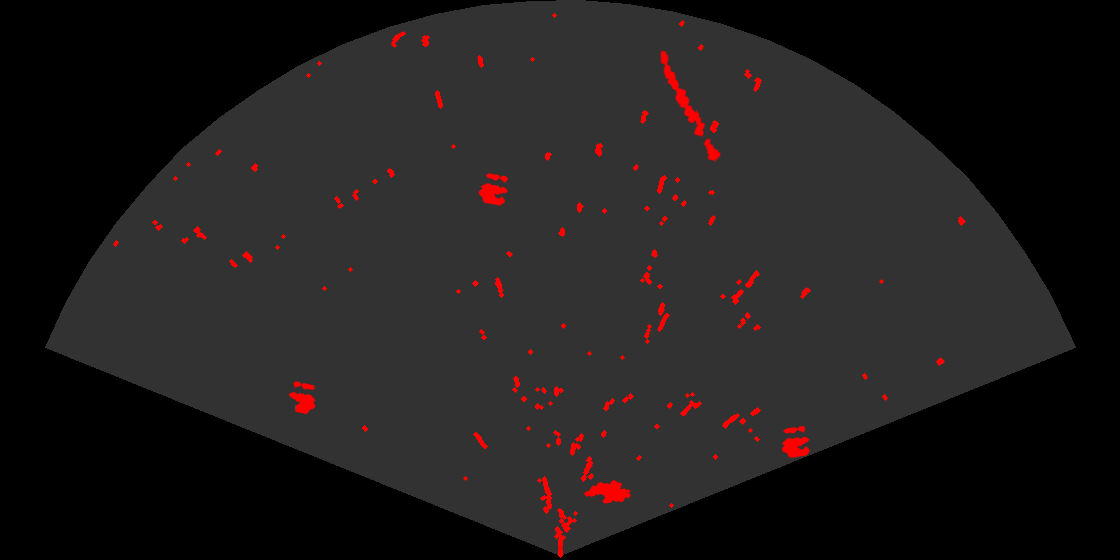AUV: (582, 478, 633, 505)
ball: (477, 172, 510, 207), (780, 424, 812, 460), (287, 380, 317, 416)
chain: (658, 49, 722, 163)
